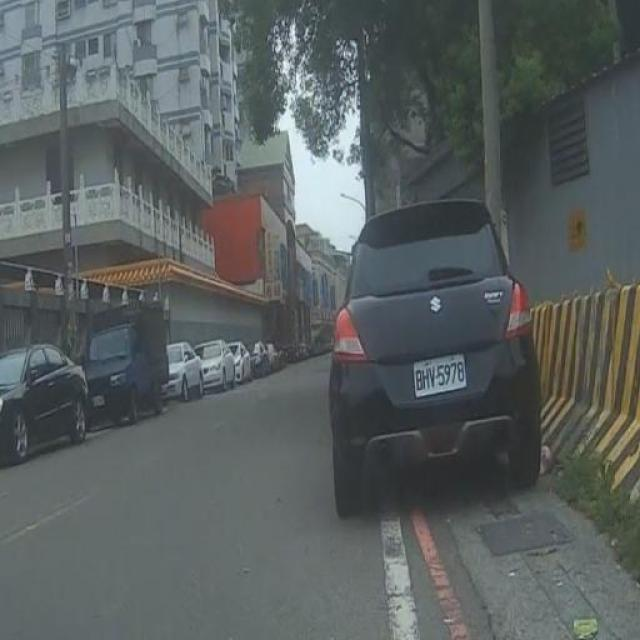Legalparking: (0, 309, 306, 472)
illegalparking: (313, 187, 616, 506)
